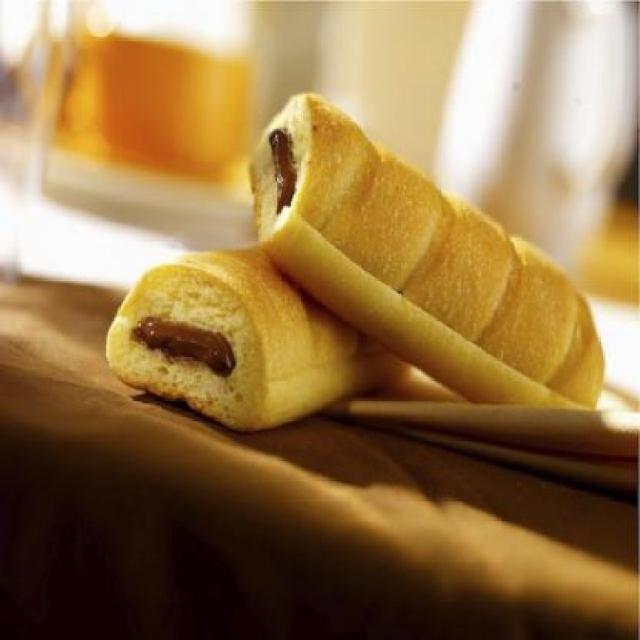Merendine packaged: (250, 90, 608, 418), (100, 240, 426, 437)
